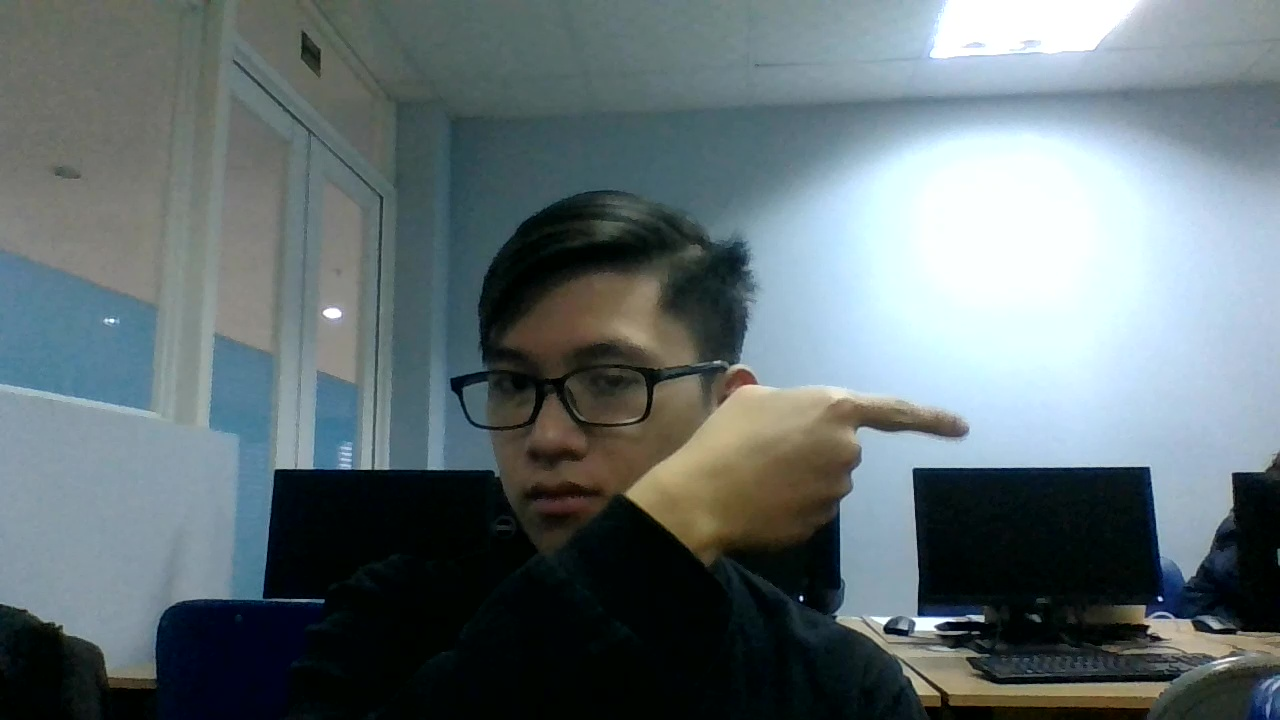left: (700, 373, 967, 547)
